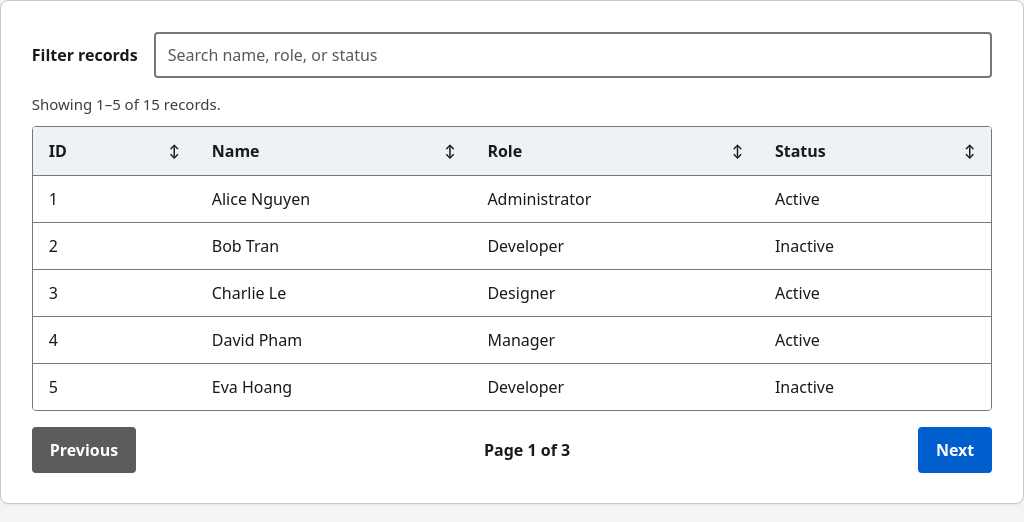
Test: DataGrid › paginates five rows at a time
Expected: the text "Page 1 of 3" is shown, [484, 439, 570, 461]
Click the button with aria-label "Next Page".
click(955, 450)  # box [918, 427, 992, 473]
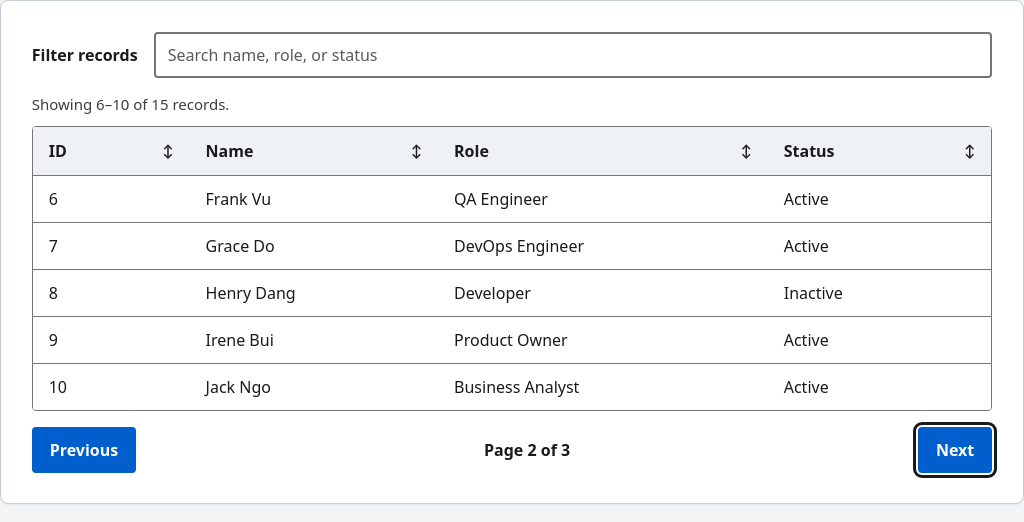
Expected: the text "Page 2 of 3" is shown, [484, 439, 570, 461]
Expected: the text "Showing 6–10 of 15 records." is shown, [32, 94, 229, 114]
